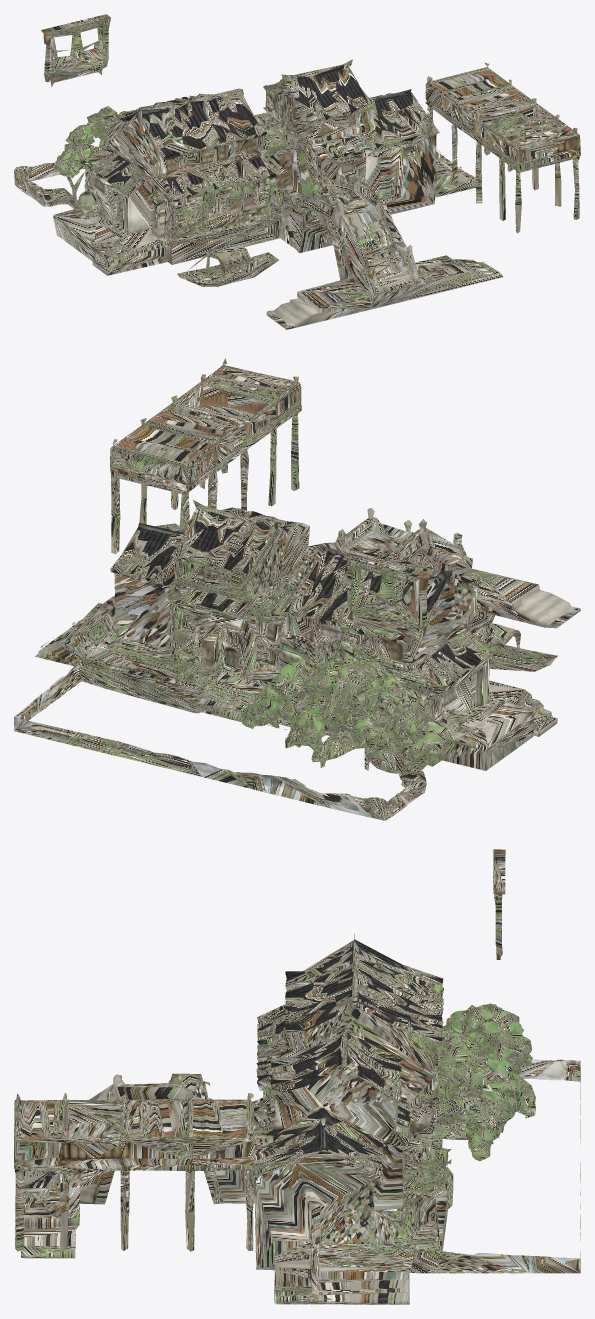
File: bq_canal_house.lod.glb
The picture shows the model from 3 angles, top to bottom: view 1: azimuth 30°, elevation 25°; view 2: azimuth 150°, elevation 25°; view 3: azimuth 270°, elevation 25°; orthographic projection. The views are drawn at different scales.
Size of the model in its own units: 1.88 by 0.8596 by 1.9.
1 material, 1 textured.
